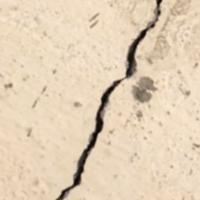crack: (55, 1, 164, 199)
